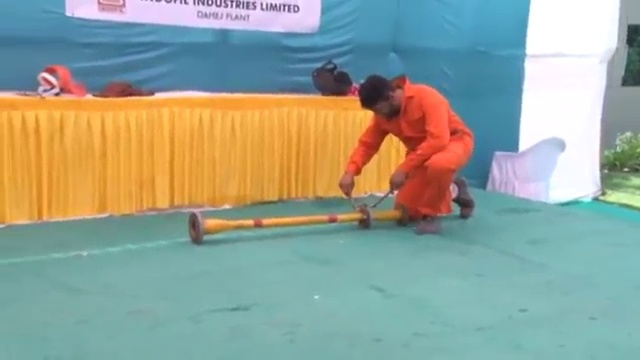helmet_off: (359, 74, 402, 118)
person: (342, 70, 475, 229)
